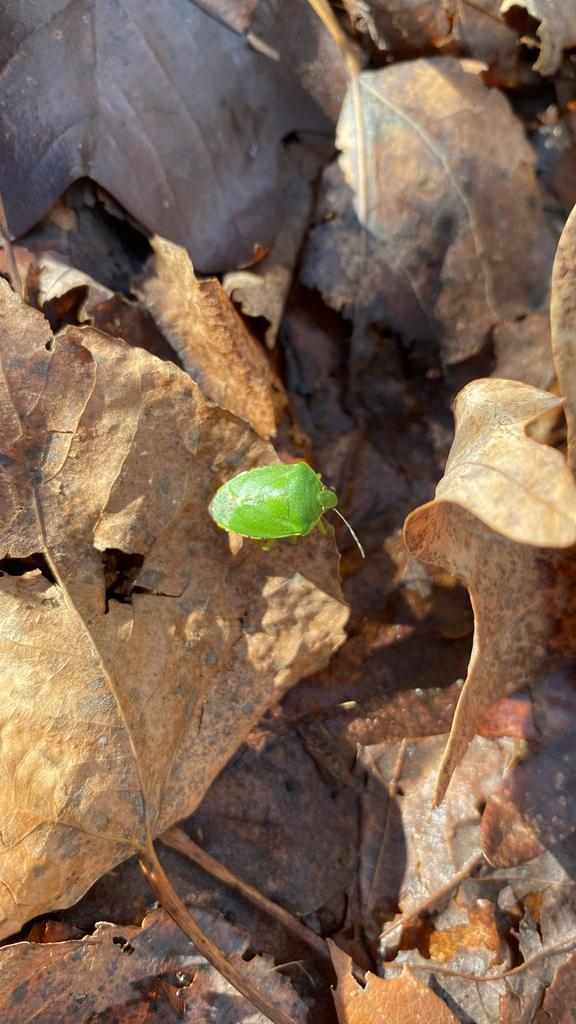stink_bugs: (171, 432, 385, 575)
